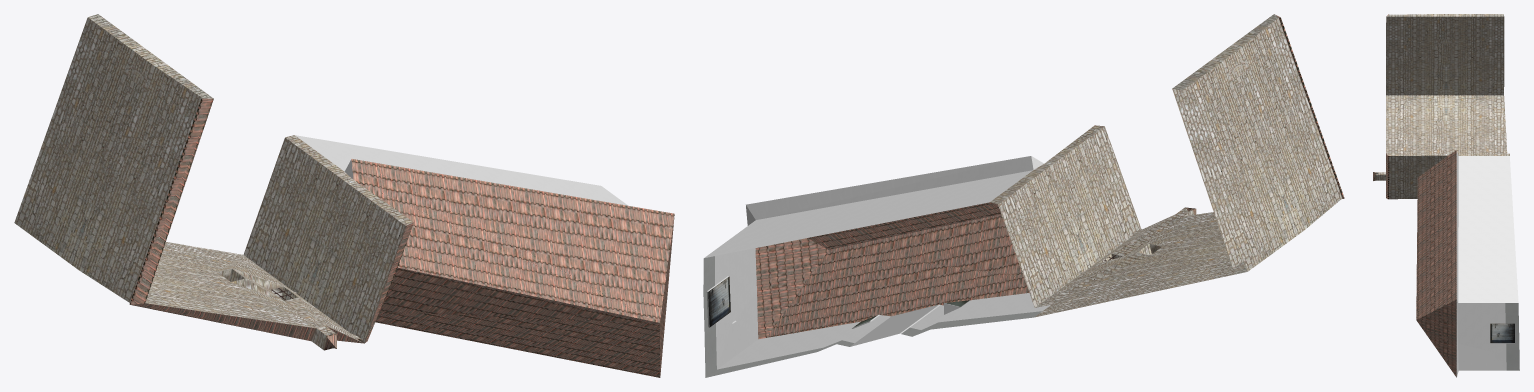
The model's file is Ryytli_22-origo.obj.
3 renders of one model, left to right at view 1: azimuth 30°, elevation 25°; view 2: azimuth 150°, elevation 25°; view 3: azimuth 270°, elevation 25°, orthographic. The views are drawn at different scales.
Visible parts, largest first — view 1: Ryytli_22; view 2: Ryytli_22; view 3: Ryytli_22.
Part boxes in pixels (box(x1,y1,x2,y2)): Ryytli_22: box(14, 14, 674, 377); Ryytli_22: box(703, 14, 1344, 377); Ryytli_22: box(1373, 14, 1519, 377).
Bounding box in the file's own units: 24 × 17 × 9.71.
